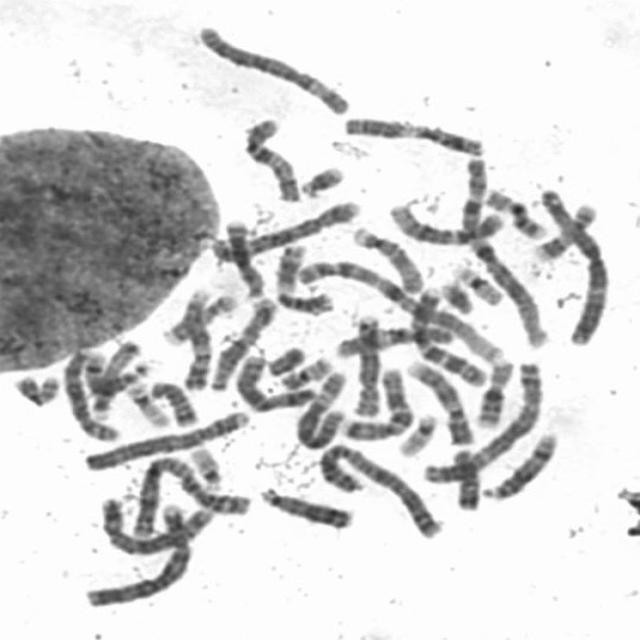A1: (290, 254, 508, 366), (454, 153, 550, 351)
A2: (314, 438, 448, 540), (123, 451, 256, 541)
A3: (414, 355, 545, 486), (534, 185, 612, 347)
B4: (79, 497, 203, 609), (78, 405, 252, 472)
B5: (205, 194, 364, 263), (92, 492, 217, 556)
C10: (235, 113, 302, 203), (327, 322, 457, 359)
C11: (336, 110, 491, 157), (268, 237, 336, 316)
C12: (202, 292, 279, 393), (384, 198, 510, 247)
C6: (192, 18, 356, 118), (290, 367, 350, 451)
C7: (406, 283, 492, 388), (336, 361, 416, 441)
C8: (59, 346, 122, 443), (351, 310, 385, 418)
C9: (401, 354, 478, 447), (176, 285, 214, 392)
D13: (255, 481, 356, 531), (219, 213, 268, 301)
D14: (477, 427, 561, 502), (79, 345, 115, 423)
D15: (347, 220, 426, 295), (85, 332, 145, 420)
E16: (479, 184, 549, 240), (470, 354, 517, 430)
E17: (157, 289, 240, 347), (530, 197, 600, 263)
E18: (145, 376, 201, 428), (448, 443, 483, 511)
F19: (445, 257, 506, 307), (121, 376, 173, 428)
F20: (276, 351, 335, 391), (8, 368, 64, 408)
G21: (294, 160, 347, 198), (436, 276, 476, 316)
G22: (392, 408, 440, 458), (183, 441, 229, 492)
X: (202, 292, 279, 393), (231, 348, 319, 413)
Y: (262, 341, 309, 378)
